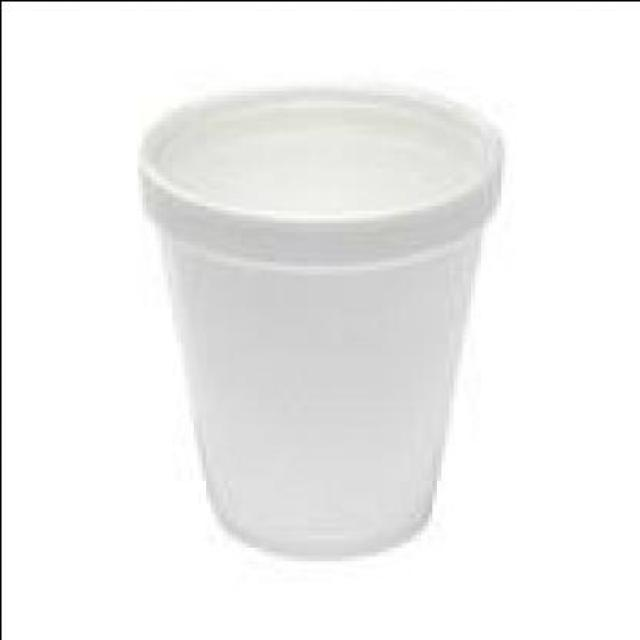PAPER: (128, 81, 500, 550)
